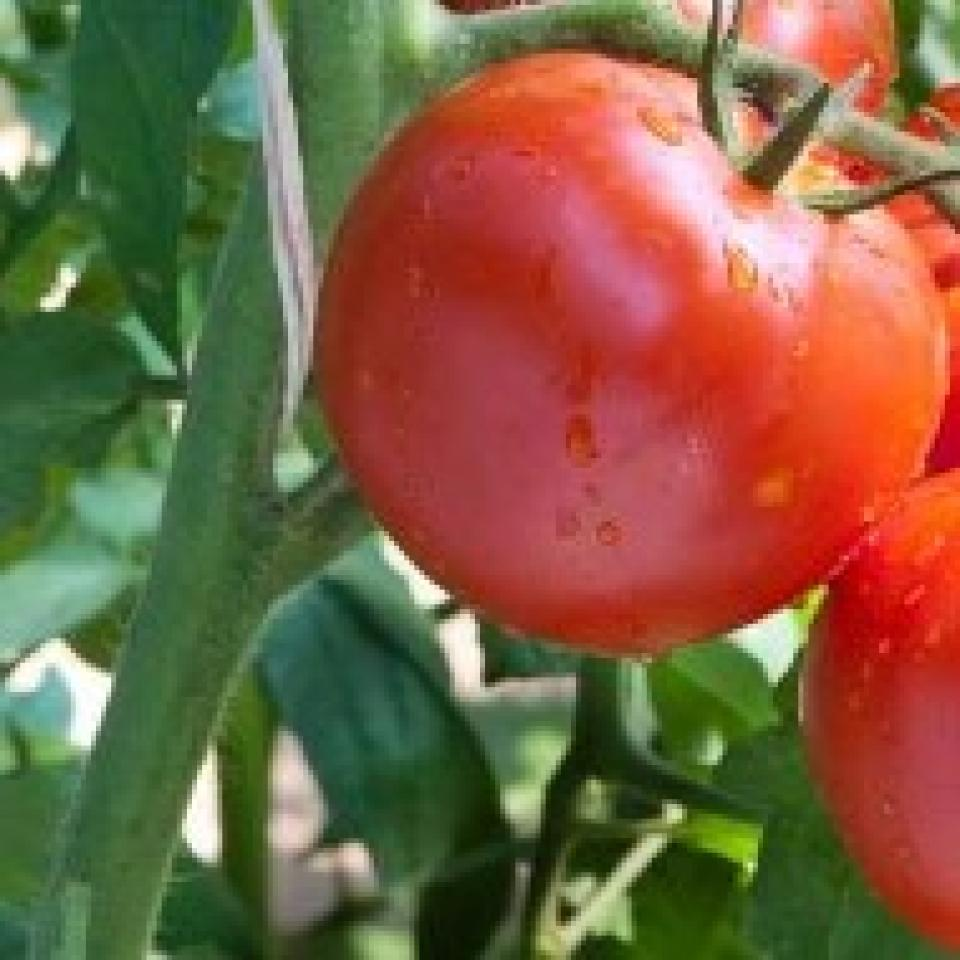Healthy: (338, 59, 938, 629)
